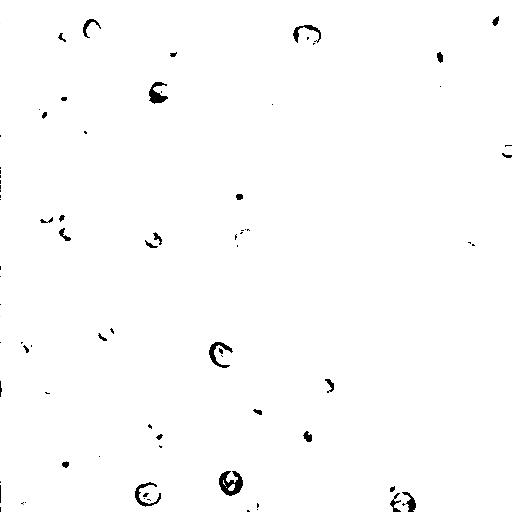micro-algae: (71, 385, 157, 471), (261, 422, 341, 496), (3, 0, 87, 48), (106, 55, 168, 120), (418, 1, 481, 48), (473, 71, 512, 123), (53, 286, 98, 330), (46, 206, 89, 250), (62, 410, 105, 454), (206, 54, 249, 94), (156, 398, 193, 435), (154, 31, 191, 67), (26, 200, 64, 234), (257, 347, 293, 382), (230, 225, 262, 259), (423, 41, 454, 75), (79, 112, 109, 145), (488, 430, 512, 471), (456, 229, 487, 260), (28, 388, 60, 418), (58, 84, 87, 117), (132, 414, 161, 446), (28, 100, 57, 130), (291, 21, 323, 48), (330, 44, 362, 71), (50, 23, 80, 51), (52, 451, 82, 479), (146, 79, 177, 106), (133, 481, 164, 508), (239, 397, 272, 422), (208, 341, 237, 369), (5, 492, 44, 512), (13, 336, 40, 364), (481, 7, 510, 33), (219, 468, 245, 496), (93, 320, 119, 347), (389, 491, 419, 512), (86, 436, 111, 461), (141, 227, 164, 252), (382, 478, 404, 503), (260, 93, 283, 116), (82, 17, 104, 40), (315, 375, 336, 395), (242, 493, 261, 512), (300, 424, 317, 444), (154, 434, 173, 450), (230, 190, 249, 204), (436, 72, 450, 88), (501, 142, 512, 159)
